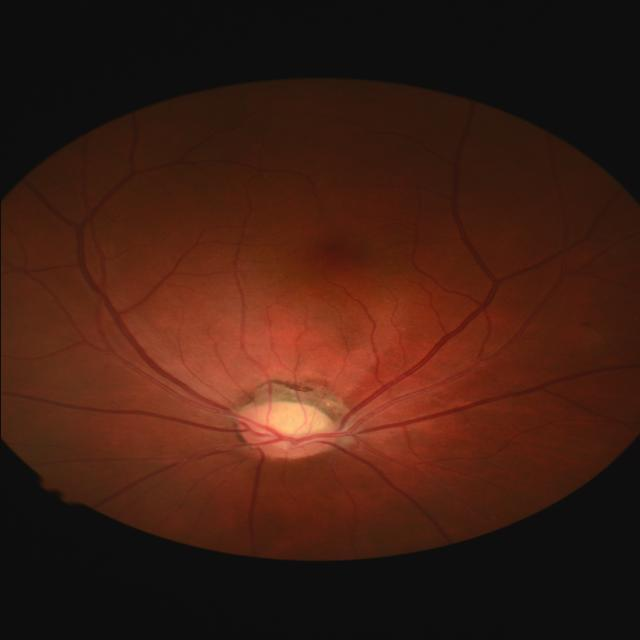cup: (254, 408, 326, 450)
disk: (235, 401, 336, 463)
